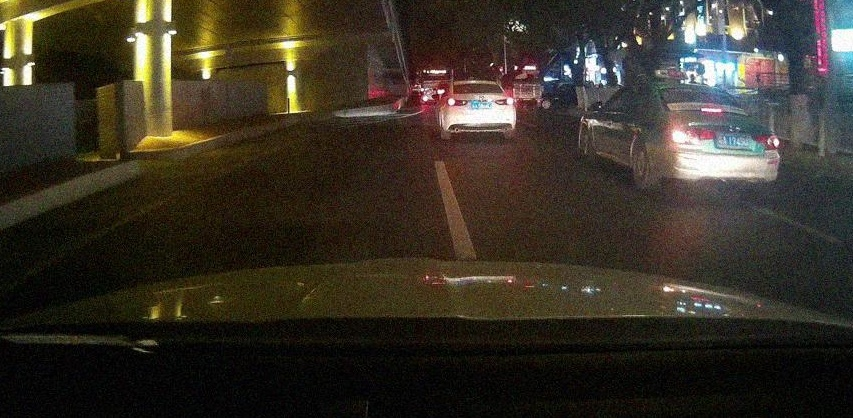L_light: (671, 126, 715, 145), (447, 97, 468, 107)
R_light: (752, 134, 779, 150), (494, 97, 514, 106)
T_light: (701, 108, 722, 113), (473, 83, 483, 85)
night-brake: (654, 83, 780, 194)
night-no: (446, 80, 516, 140)
